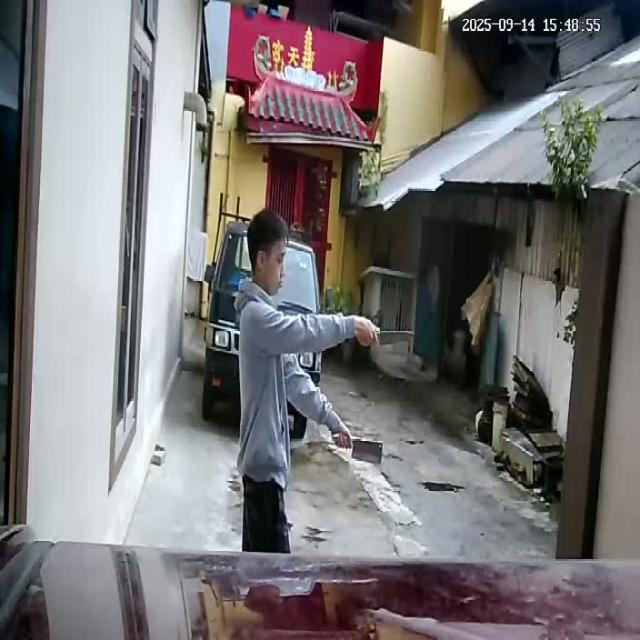senjata_tajam: (351, 435, 386, 468), (377, 327, 417, 347)
